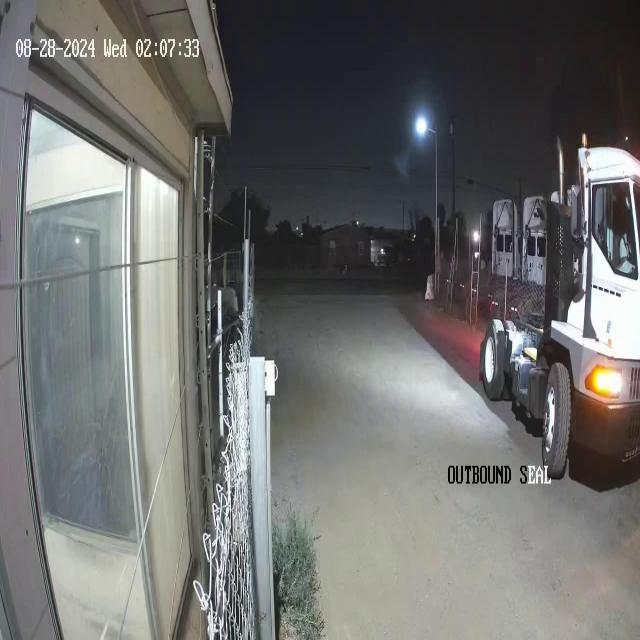TRUCK_IN: (478, 131, 640, 481)
